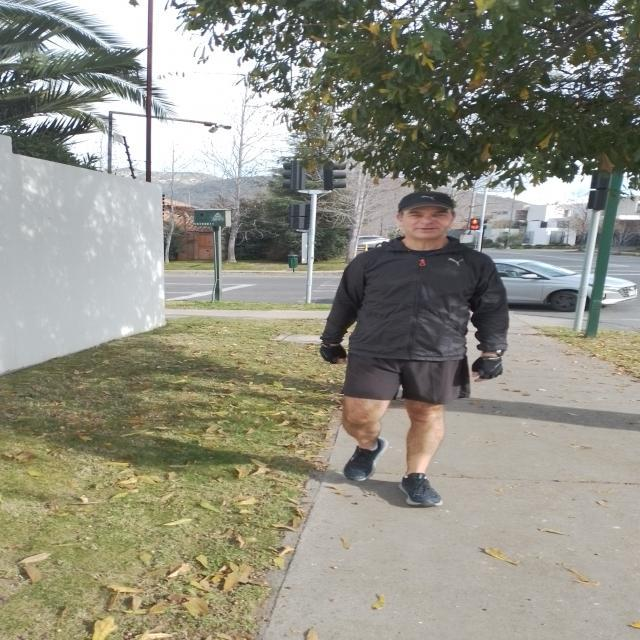person: (318, 180, 532, 520)
